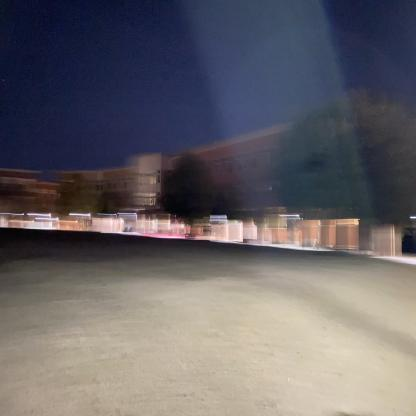eb3: (59, 110, 401, 252)
